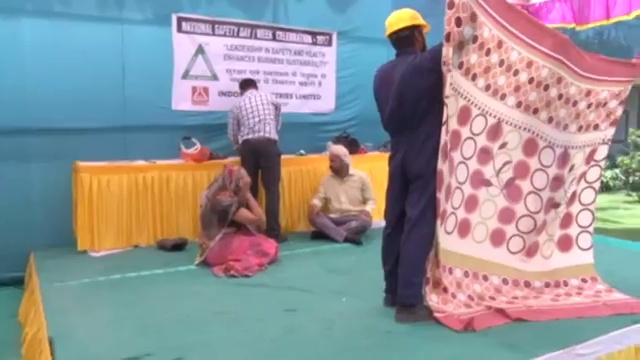helmet: (384, 7, 430, 34)
helmet_off: (327, 141, 350, 178), (223, 165, 249, 191), (237, 77, 257, 97)
helmet_on: (382, 7, 432, 51)
person: (370, 7, 447, 326), (228, 75, 287, 241), (197, 165, 278, 280), (306, 141, 374, 246)
